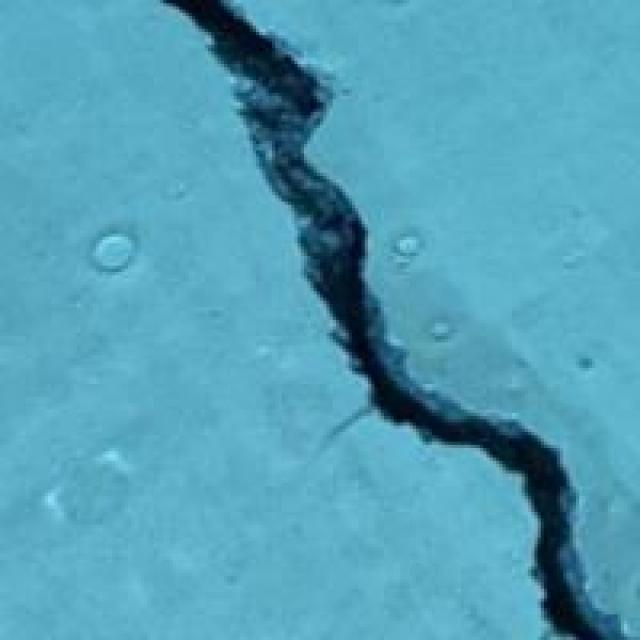crack: (157, 0, 630, 637)
